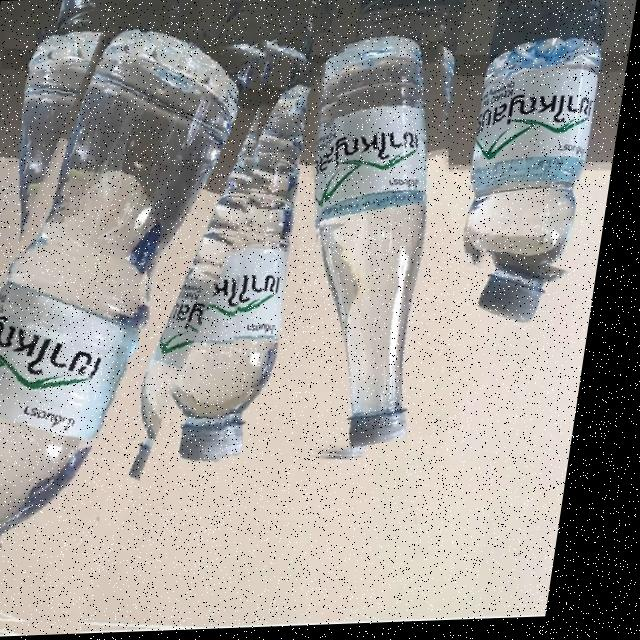litter: (0, 21, 292, 640), (102, 36, 350, 517), (230, 34, 501, 466), (443, 32, 617, 328), (453, 253, 573, 372)
